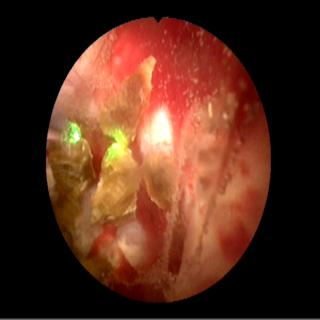laser: (110, 131, 127, 157), (69, 122, 81, 143)
stone: (91, 55, 155, 225), (49, 140, 93, 255), (142, 113, 173, 208)
tissue: (59, 22, 266, 298)
